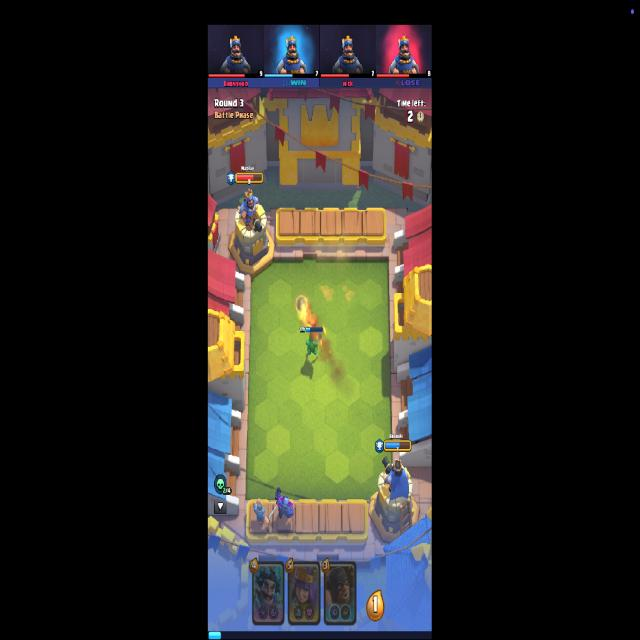baby_dragon: (304, 328, 322, 357)
card_archer_queen: (288, 560, 320, 626)
card_e_wiz: (252, 560, 284, 626)
card_executioner: (324, 560, 356, 626)
knight: (253, 497, 277, 528)
pekka: (275, 488, 297, 521)
